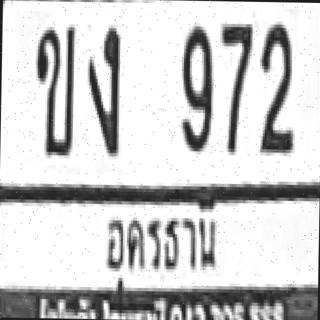A02: (32, 24, 74, 152)
A07: (84, 24, 118, 153)
N02: (258, 21, 292, 150)
N07: (218, 20, 252, 152)
N09: (178, 22, 212, 148)
P73: (90, 200, 227, 294)
